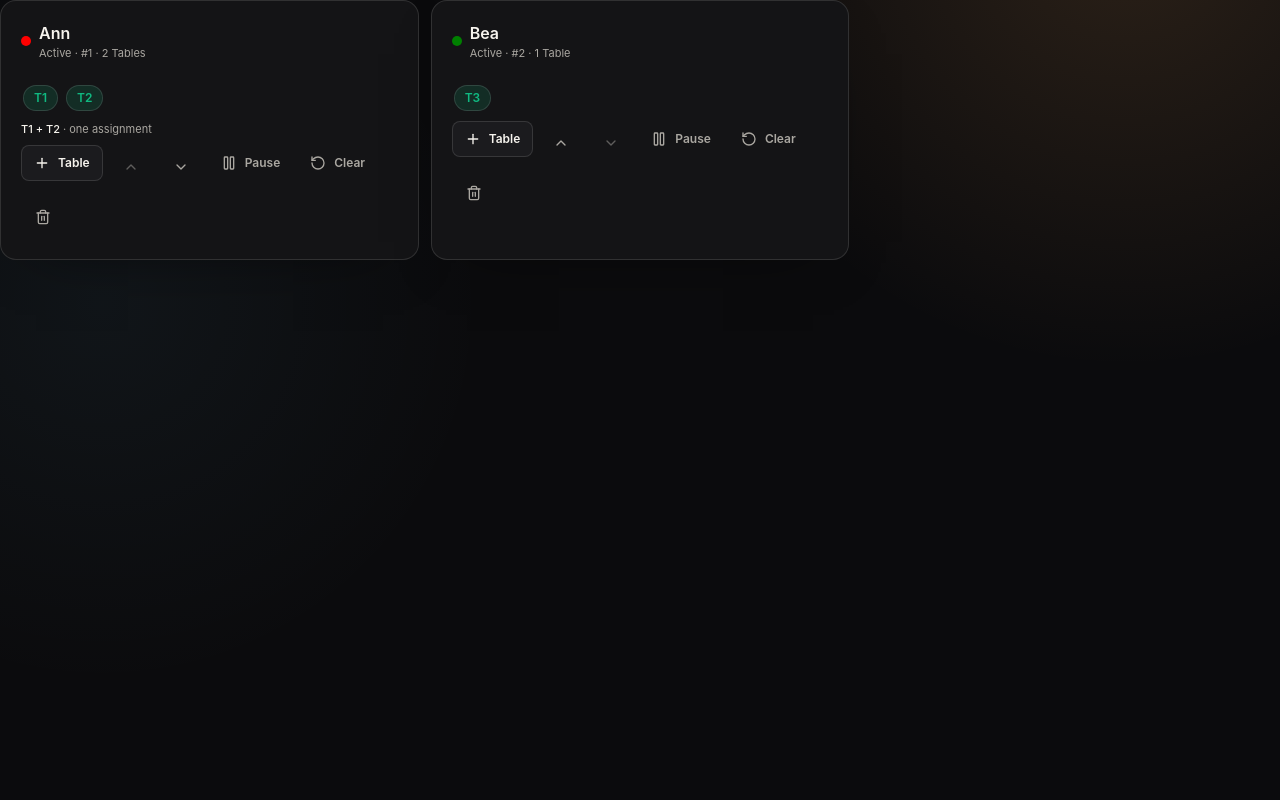
Servers: whole-assignment copy › 109-022/023 the table dialog explains End and Transfer scope for a combined assignment
Click the button named "Table T2, assigned to Ann, combined with T1" at [85, 97], box [64,82,105,112]
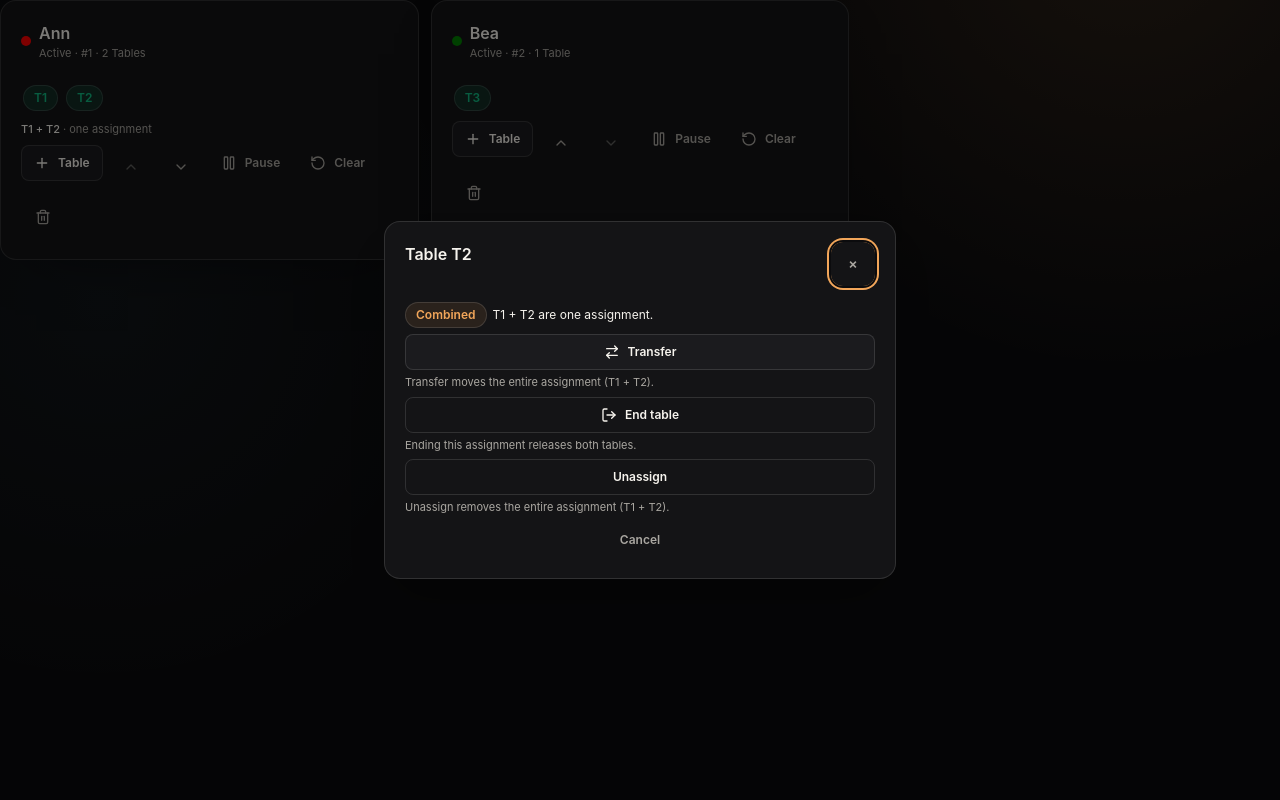
Check: the text "T1 + T2 are one assignment." is shown, box [492,307,653,323]
Click the button "Transfer" at [640, 352], box [405,334,875,370]
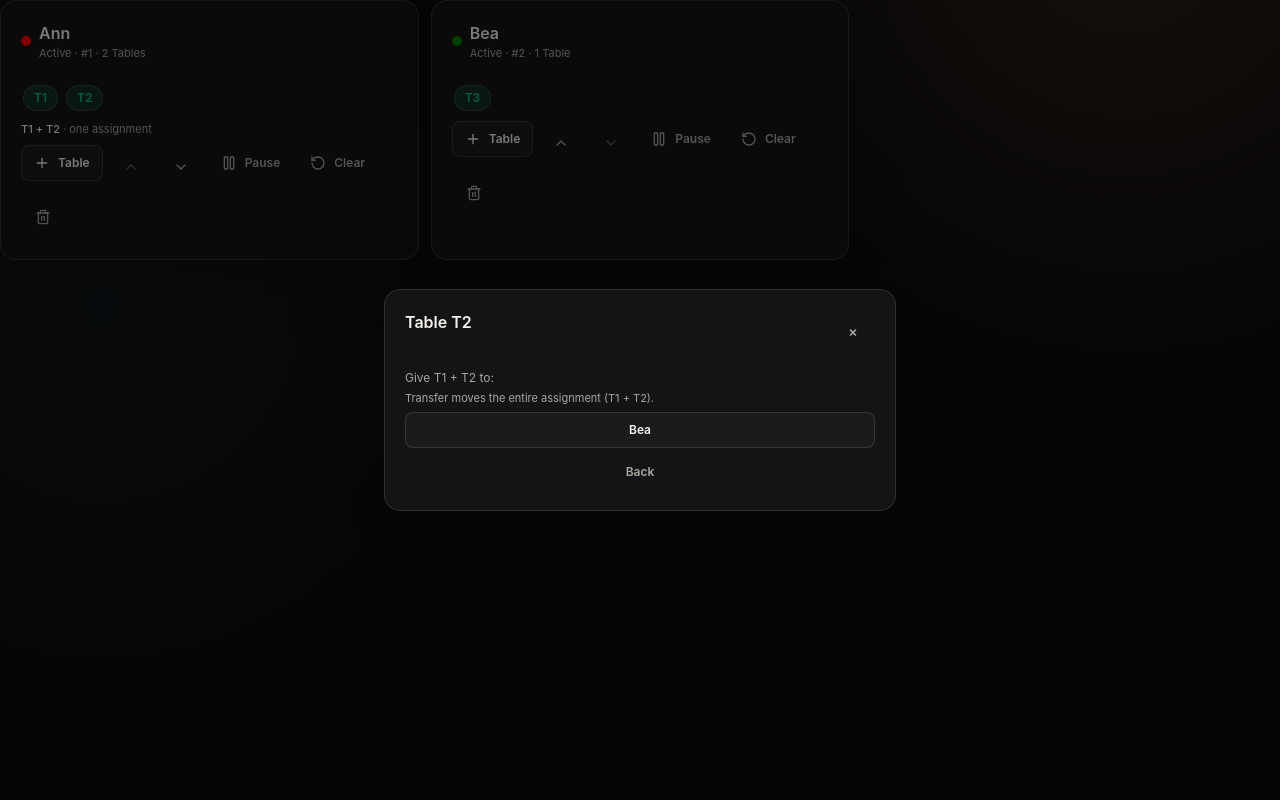
Check: the text "Transfer moves the entire assignment (T1 + T2)." is shown, box [405,391,654,405]
Check: the text "Give T1 + T2 to:" is shown, box [405,370,494,385]
